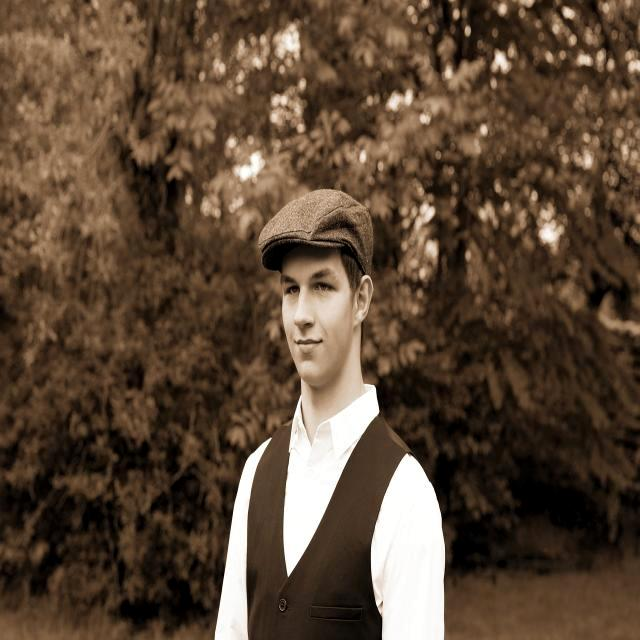no_hard_hat: (258, 189, 373, 275)
person: (215, 247, 445, 640)
